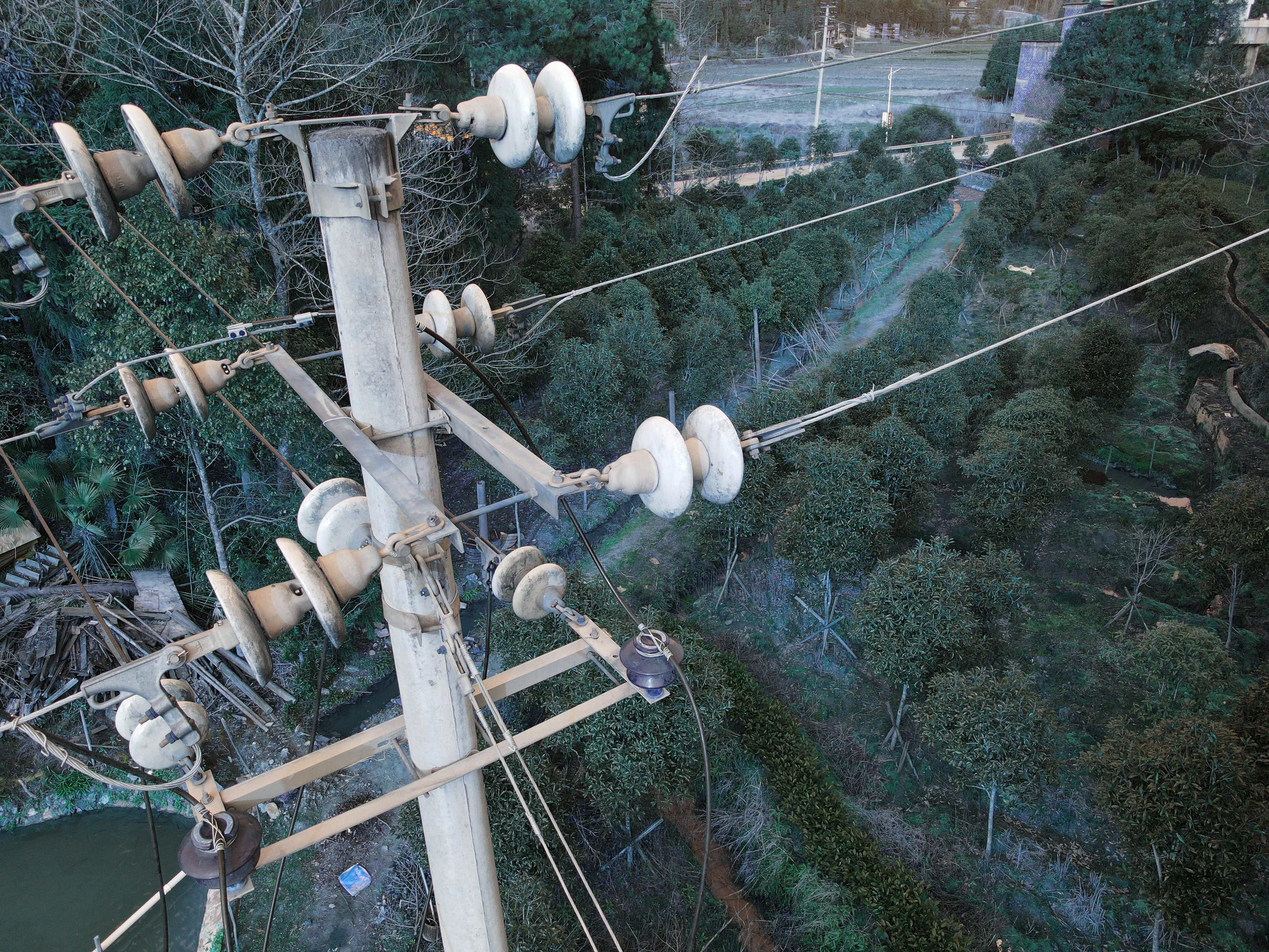severe_soiling_no_discharge_whole: (199, 532, 382, 685), (50, 98, 223, 244), (605, 401, 747, 524), (458, 57, 591, 171), (112, 344, 239, 443), (175, 805, 264, 894), (418, 280, 499, 362), (488, 543, 569, 624), (290, 475, 370, 551), (617, 626, 685, 691)
